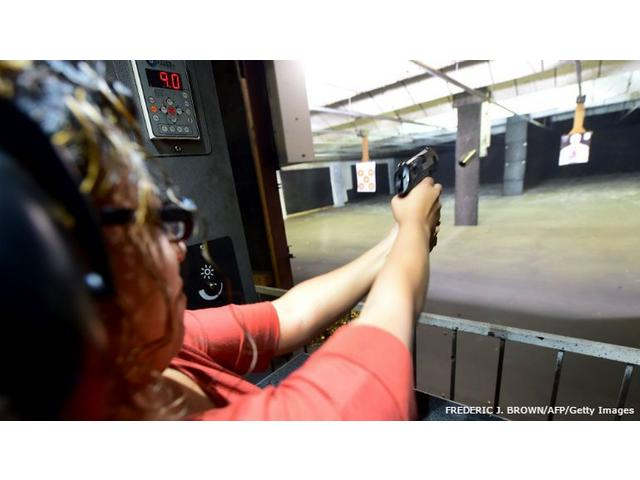pistol: (396, 147, 445, 247)
